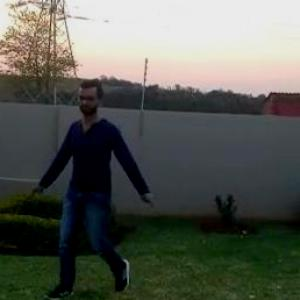land: (29, 78, 166, 299)
